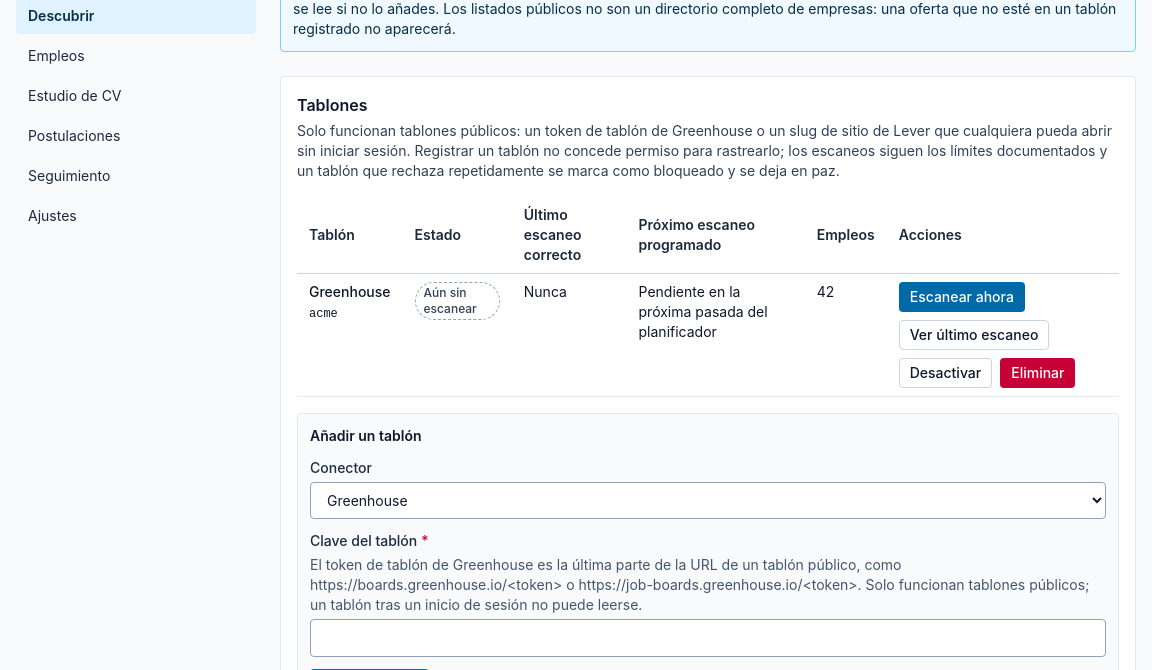
Test: discover: scan status › renders the same 304 re-scan as unchanged in Spanish
The width and height of the screenshot is (1152, 670).
(page scrolled)
Click the button "Ver último escaneo" at (974, 335), box [899,320,1049,350]
(page scrolled)
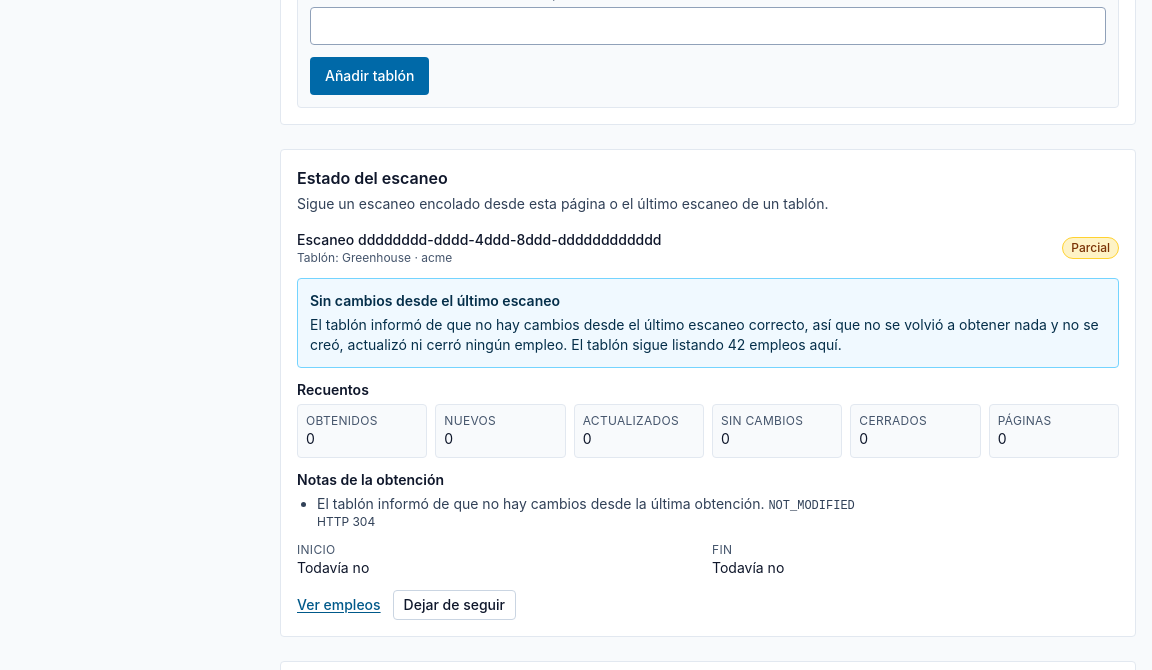
Result: the text with test id "scan-unchanged" shows "El tablón informó de que no hay cambios" at [310,316,1099,353]
